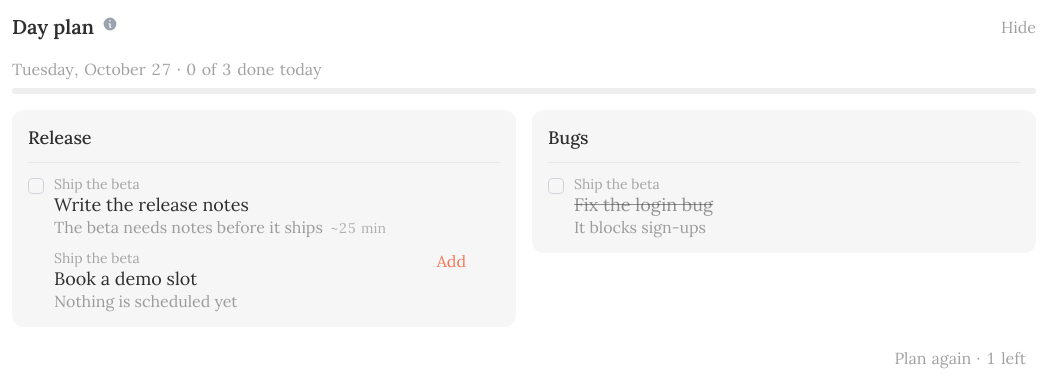
DayPlanSection › Plan again (R68) › should retire the action and keep the plan on a 429 by code
Expected: the text "Write the release notes" is shown, [54,193,249,217]
Click the button "Plan again · 1 left" at (960, 358), box [884,343,1036,373]
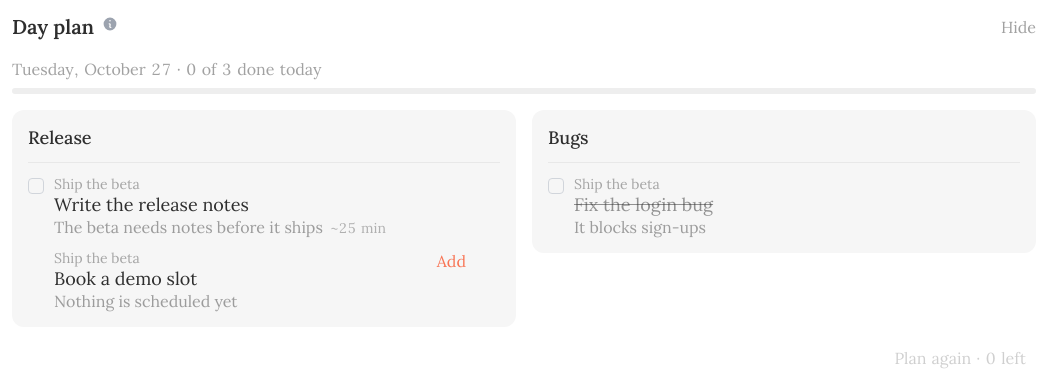
Expected: the text "Write the release notes" is shown, [54,193,249,217]
Expected: the button "Plan again · 0 left" is disabled, [884,343,1036,373]
Expected: the button "Plan again · 0 left" is shown, [884,343,1036,373]
